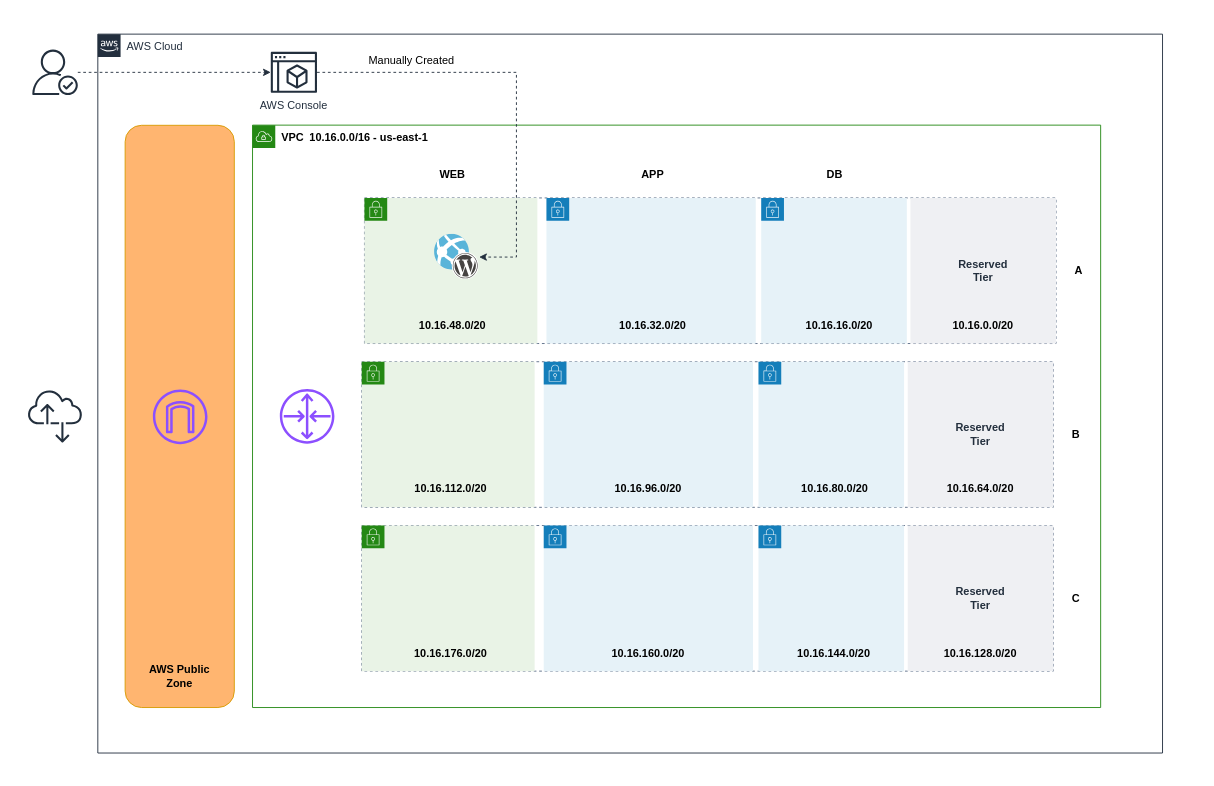
Image size: 1214x786. Some labels were removed from this diagram. The centre of each missing label's shape, as x and y in pixels:
Admin: (54,72)
Internet: (54,416)
Internet Gateway: (179,416)
VPC Router: (306,416)
Web-WP1: (456,256)
